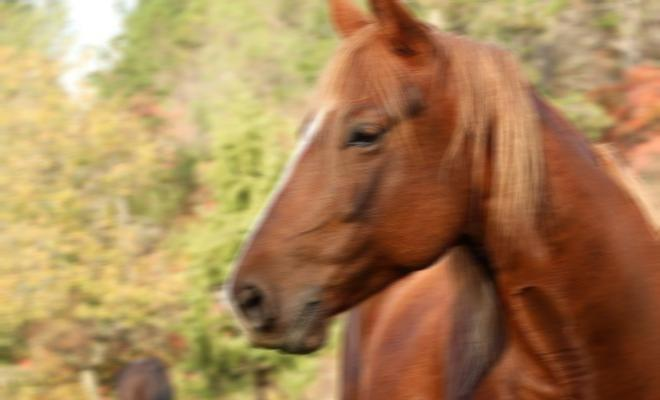horse: (212, 0, 660, 400)
